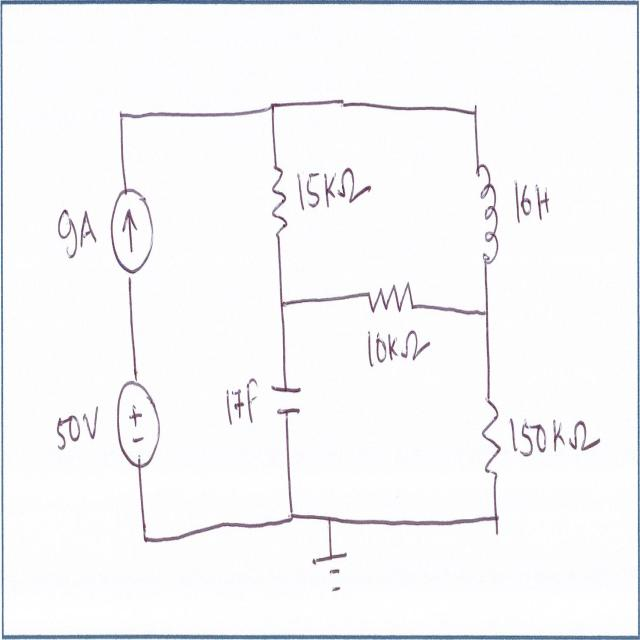capacitor: (270, 373, 308, 428)
current_source: (108, 180, 158, 276)
ground: (306, 541, 356, 610)
inductor: (473, 157, 503, 269)
resistor: (480, 395, 506, 486), (366, 274, 416, 321), (268, 160, 293, 242)
voltage_source: (116, 377, 164, 472)
